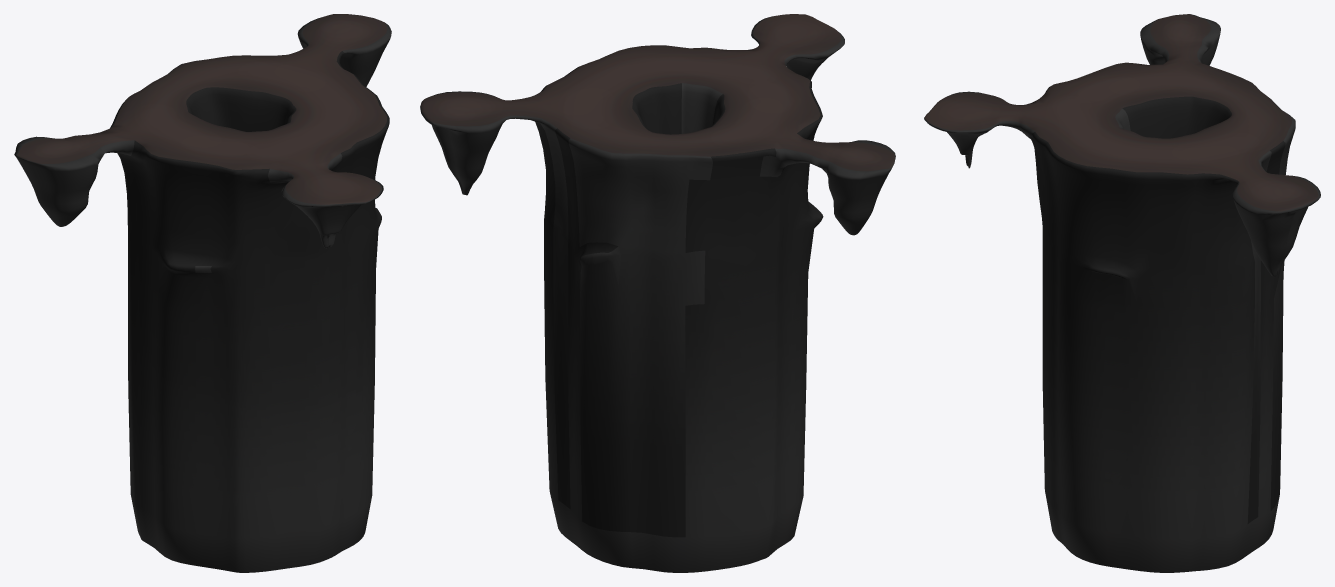
The model's file is terrain2.fbx.
3 views of the same model, side by side, from view 1: azimuth 30°, elevation 25°; view 2: azimuth 150°, elevation 25°; view 3: azimuth 270°, elevation 25° (orthographic). The views are drawn at different scales.
Visible parts, largest first — view 1: pPipe1; view 2: pPipe1; view 3: pPipe1.
Part boxes in pixels (x1,y1,x2,y2): pPipe1: (14, 14, 391, 572); pPipe1: (420, 14, 895, 572); pPipe1: (924, 14, 1320, 572).
Bounding box in the file's own units: 47.55 × 45.34 × 40.13.
